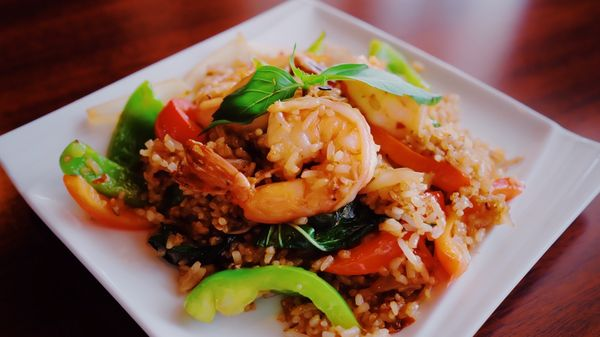curry: (0, 2, 595, 337)
